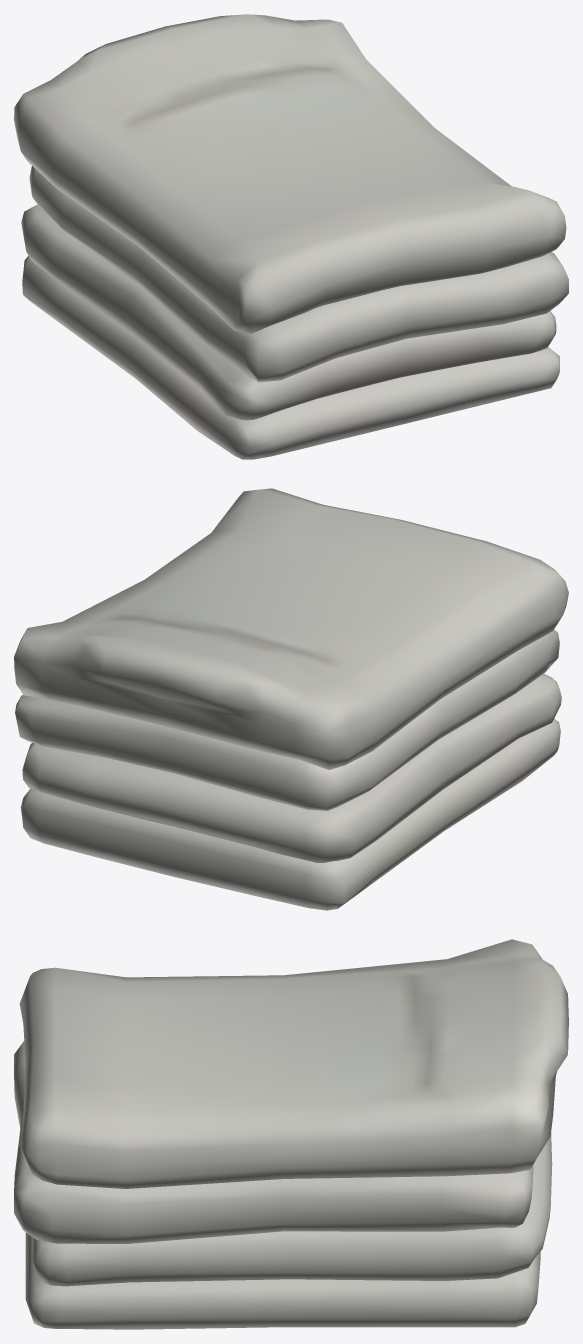
3 renders of one model, top to bottom at view 1: azimuth 30°, elevation 25°; view 2: azimuth 150°, elevation 25°; view 3: azimuth 270°, elevation 25°, orthographic. The views are drawn at different scales.
Size of the model in its own units: 4.44 by 2.84 by 5.8.
Materials: 1 (1 with a texture image).
